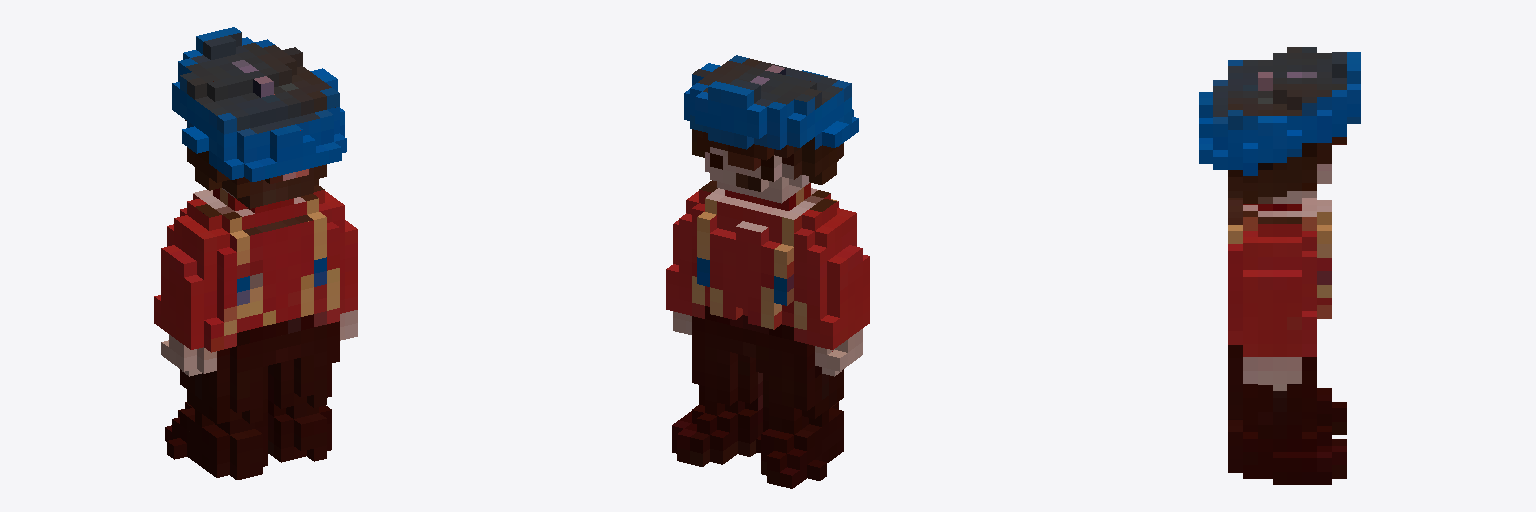
3 views of the same model, side by side, from view 1: azimuth 30°, elevation 25°; view 2: azimuth 150°, elevation 25°; view 3: azimuth 270°, elevation 25° (orthographic).
Parts seen in each view (by area): view 1: obj1; view 2: obj1; view 3: obj1.
Boxes of the visible parts, box(x1,y1,x2,y2) form: obj1: box(154, 27, 357, 479); obj1: box(666, 55, 869, 488); obj1: box(1199, 47, 1360, 484).
Size of the model in its own units: 0.4279 by 0.9545 by 0.3621.
1 materials, 1 textured.